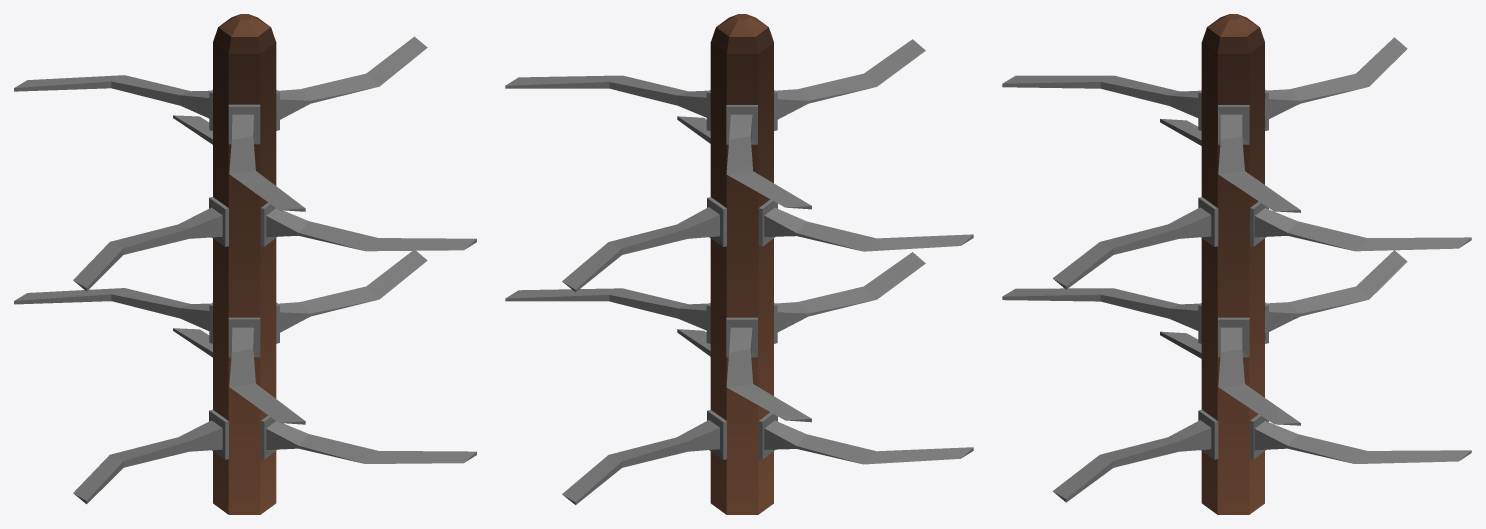
Rendered from Upright_Knifes.fbx.
The picture shows the model from 3 angles, left to right: view 1: azimuth 30°, elevation 25°; view 2: azimuth 150°, elevation 25°; view 3: azimuth 270°, elevation 25°; orthographic projection.
Parts seen in each view (by area): view 1: Upright_Knifes; view 2: Upright_Knifes; view 3: Upright_Knifes.
Part boxes in pixels (left/top/right/bottom): Upright_Knifes: left=14, top=14, right=476, bottom=514; Upright_Knifes: left=505, top=14, right=973, bottom=514; Upright_Knifes: left=1002, top=14, right=1471, bottom=514.
Bounding box in the file's own units: 107 × 125 × 109.
Materials: 1 (1 with a texture image).
